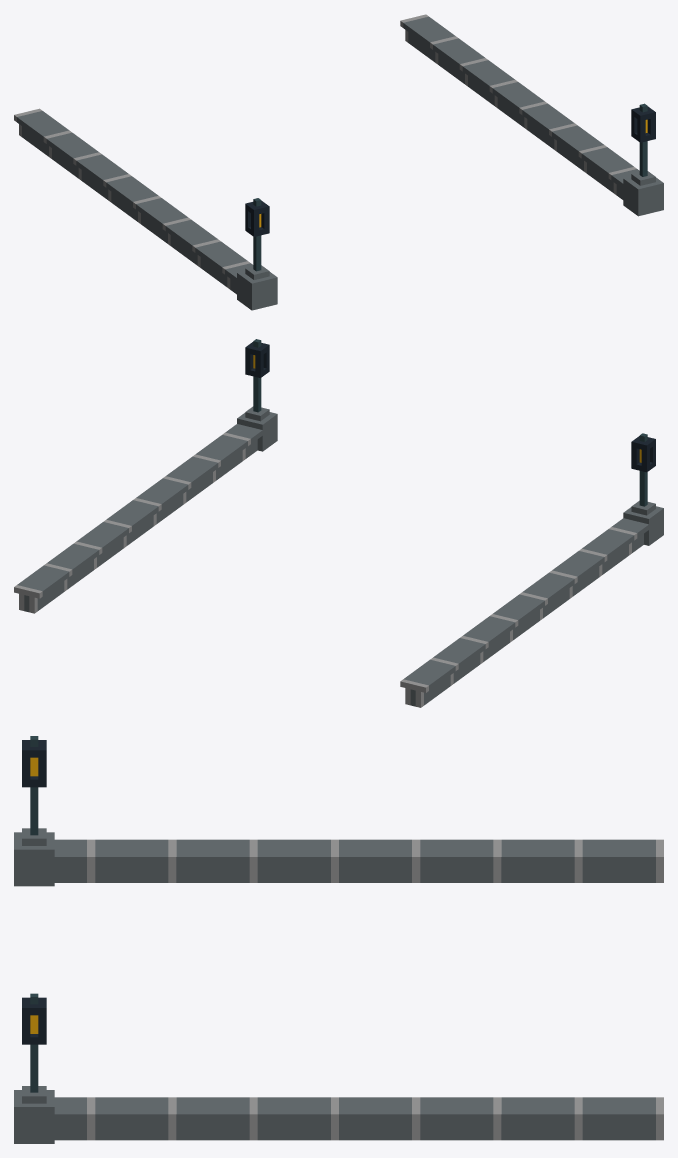
The model's file is bridge_stone_barrier_tiled.obj.
3 views of the same model, one above another, from view 1: azimuth 30°, elevation 25°; view 2: azimuth 150°, elevation 25°; view 3: azimuth 270°, elevation 25° (orthographic). The views are drawn at different scales.
Bounding box in the file's own units: 8 × 1.9 × 8.
1 material, 1 textured.
